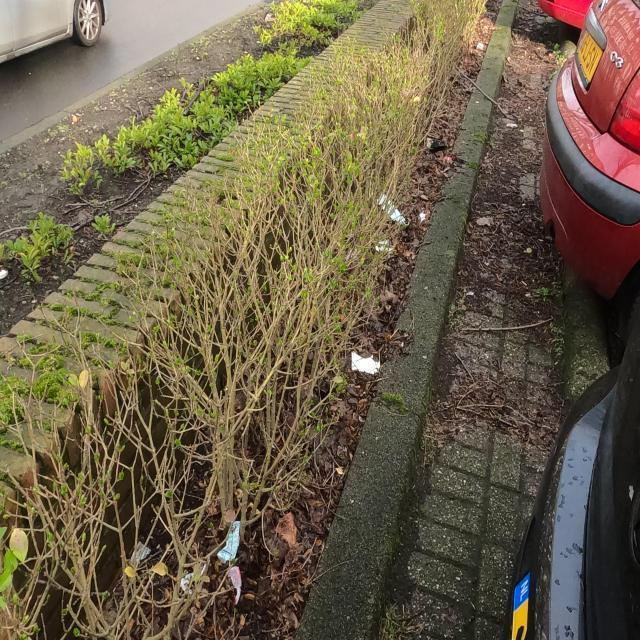Mask: (210, 520, 246, 564), (374, 195, 408, 229)
